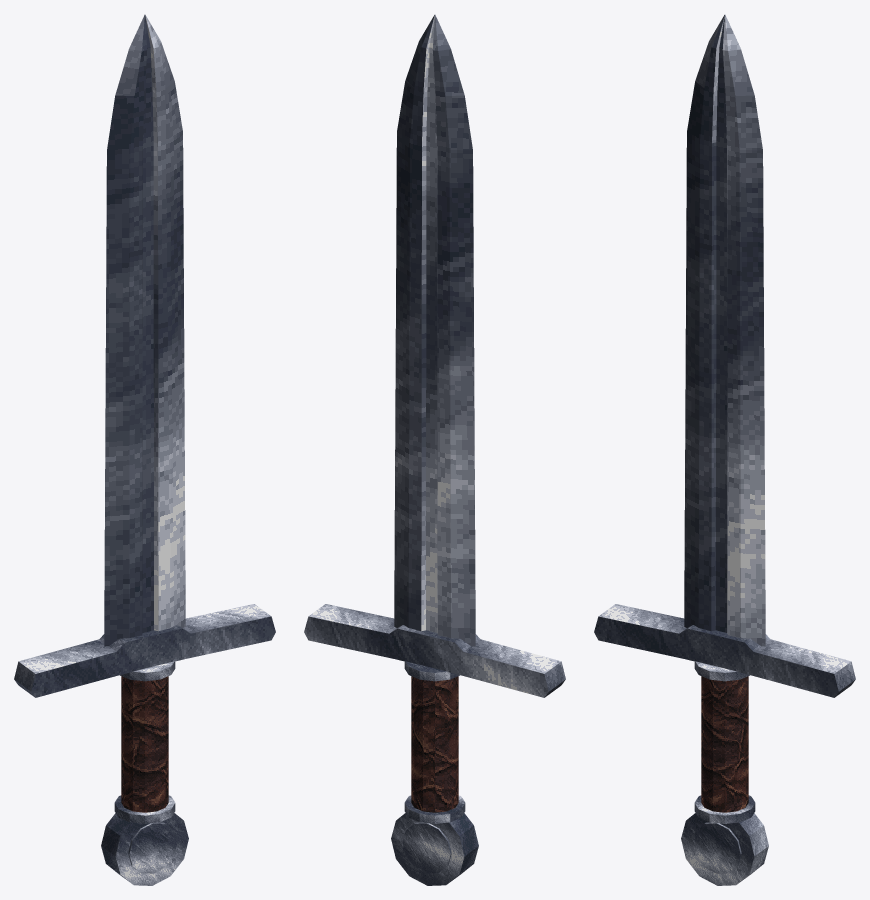
File: espada_reta.glb
The picture shows the model from 3 angles, left to right: view 1: azimuth 30°, elevation 25°; view 2: azimuth 150°, elevation 25°; view 3: azimuth 330°, elevation 25°; orthographic projection.
Visible parts, largest first — view 1: Lâmina com canal central, Guarda reta, Empunhadura, Pomo circular, Centro do pomo frente, Colar inferior, Colar superior; view 2: Lâmina com canal central, Guarda reta, Empunhadura, Pomo circular, Centro do pomo verso, Colar inferior, Colar superior; view 3: Lâmina com canal central, Guarda reta, Empunhadura, Pomo circular, Centro do pomo frente, Colar inferior, Colar superior.
Part boxes in pixels (<box>): Lâmina com canal central: <box>104,14,185,646</box>; Guarda reta: <box>14,604,275,697</box>; Empunhadura: <box>121,676,168,812</box>; Pomo circular: <box>101,813,188,885</box>; Centro do pomo frente: <box>128,822,177,873</box>; Colar inferior: <box>114,795,175,823</box>; Colar superior: <box>120,661,175,681</box>; Lâmina com canal central: <box>394,14,475,646</box>; Guarda reta: <box>304,604,565,697</box>; Empunhadura: <box>411,676,458,812</box>; Pomo circular: <box>391,813,478,885</box>; Centro do pomo verso: <box>402,822,451,873</box>; Colar inferior: <box>404,795,465,823</box>; Colar superior: <box>404,661,459,681</box>; Lâmina com canal central: <box>684,14,765,646</box>; Guarda reta: <box>594,604,855,697</box>; Empunhadura: <box>701,676,748,812</box>; Pomo circular: <box>681,813,768,885</box>; Centro do pomo frente: <box>692,822,741,873</box>; Colar inferior: <box>694,795,755,823</box>; Colar superior: <box>694,661,749,681</box>.
Bounding box in the file's own units: 1.07 × 3.61 × 0.23.
Materials: 3 (3 with a texture image).
